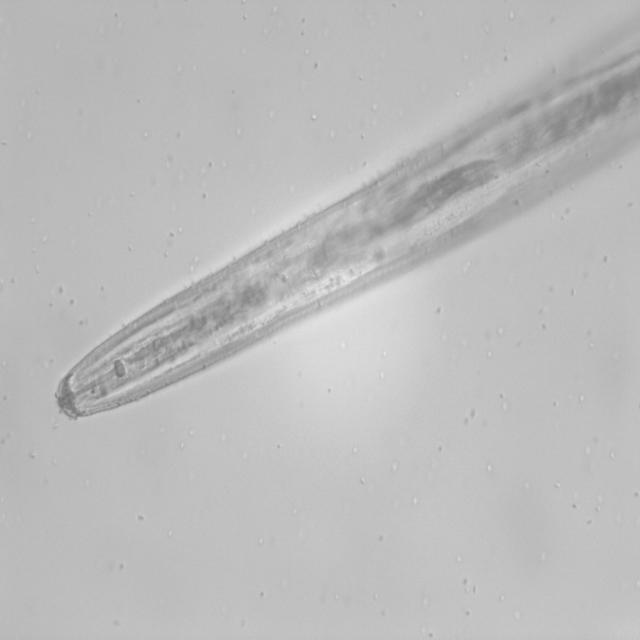Radopholus: (54, 172, 410, 425)
